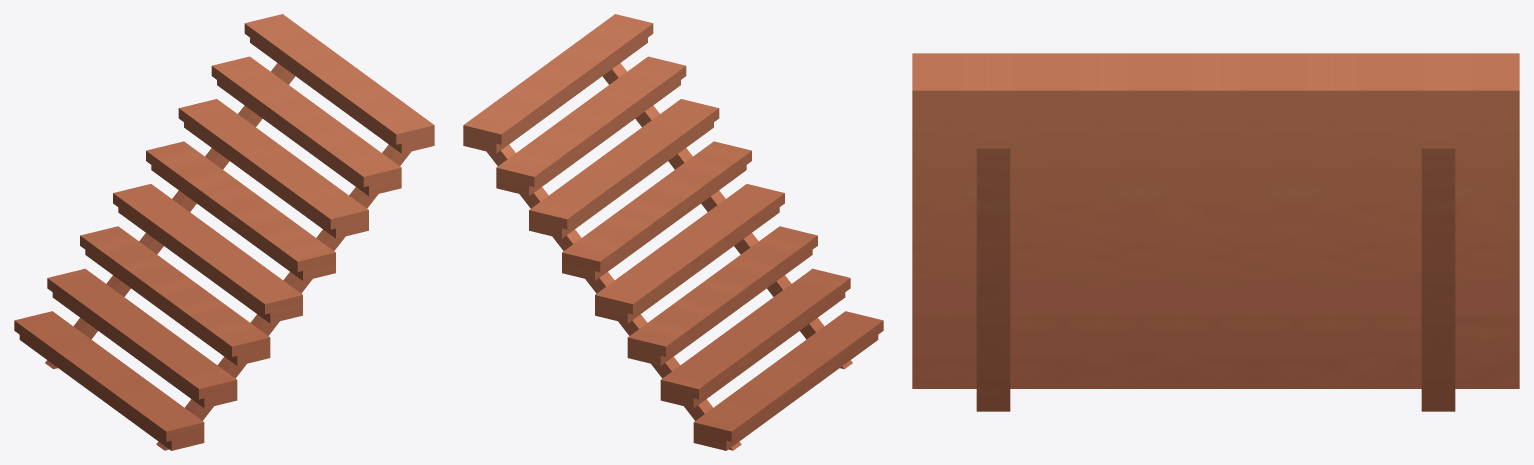
File: stairsWideWood.fbx
3 views of the same model, side by side, from view 1: azimuth 30°, elevation 25°; view 2: azimuth 150°, elevation 25°; view 3: azimuth 270°, elevation 25° (orthographic). The views are drawn at different scales.
Visible parts, largest first — view 1: stairsWideWood; view 2: stairsWideWood; view 3: stairsWideWood.
Boxes of the visible parts, bbox=[...] form: stairsWideWood: bbox=[14, 14, 434, 450]; stairsWideWood: bbox=[463, 14, 883, 450]; stairsWideWood: bbox=[912, 53, 1519, 411].
Size of the model in its own units: 1.02 by 1 by 1.
